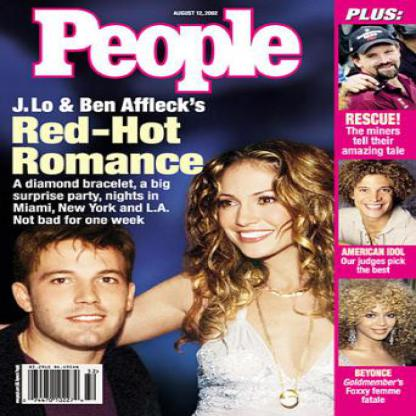face: (29, 227, 134, 350), (217, 150, 312, 262), (356, 289, 401, 342), (358, 32, 402, 82), (356, 167, 395, 220)
